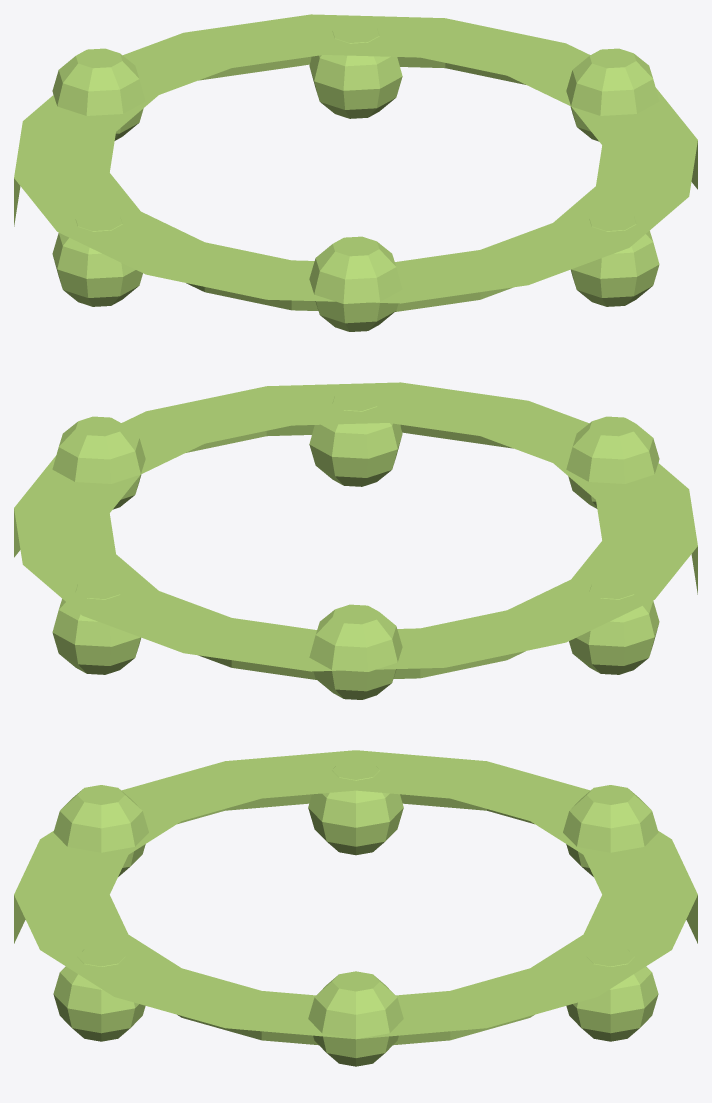
Rendered from spell_stinking_cloud_ring.glb.
3 views of the same model, one above another, from view 1: azimuth 30°, elevation 25°; view 2: azimuth 150°, elevation 25°; view 3: azimuth 270°, elevation 25° (orthographic).
Parts seen in each view (by area): view 1: SpellStinkingCloudRing_Node; view 2: SpellStinkingCloudRing_Node; view 3: SpellStinkingCloudRing_Node.
Part boxes in pixels (x1,y1,x2,y2): SpellStinkingCloudRing_Node: (14, 14, 697, 331); SpellStinkingCloudRing_Node: (14, 382, 697, 699); SpellStinkingCloudRing_Node: (14, 750, 697, 1066).
Bounding box in the file's own units: 1 × 0.2 × 1.
